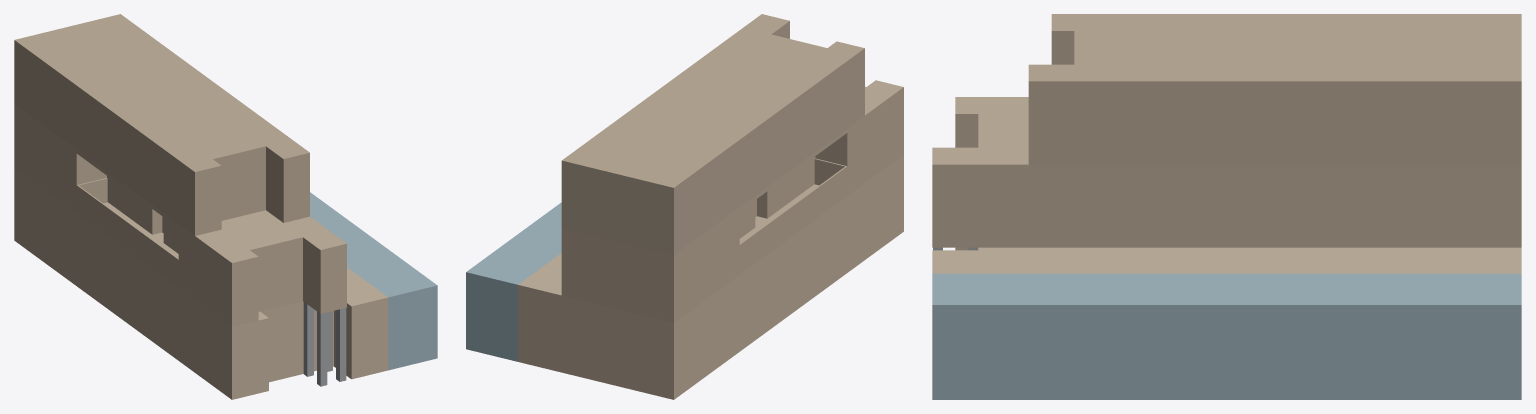
The model's file is massing.glb.
3 views of the same model, side by side, from view 1: azimuth 30°, elevation 25°; view 2: azimuth 150°, elevation 25°; view 3: azimuth 270°, elevation 25° (orthographic). The views are drawn at different scales.
Visible parts, largest first — view 1: main/floor3/0/0, main/floor1/0/0, main/floor2/1/0, wing/floor1/0/0, main/floor2/2/0, main/floor2/4/0, main/floor2/0/0, main/floor2/3/0, main/floor2/support/column2/0, main/floor2/support/column3/0, main/floor2/support/column0/0; view 2: main/floor3/0/0, main/floor1/0/0, main/floor2/1/0, wing/floor1/0/0, main/floor2/2/0, main/floor2/4/0, main/floor2/0/0, main/floor2/3/0; view 3: wing/floor1/0/0, main/floor3/0/0, main/floor2/1/0, main/floor2/2/0, main/floor1/0/0, main/floor2/4/0, main/floor2/3/0, main/floor2/0/0.
Boxes of the visible parts, x1,y1,x2,y2 form: main/floor3/0/0: (14, 14, 309, 235); main/floor1/0/0: (14, 168, 388, 399); main/floor2/1/0: (14, 140, 346, 322); wing/floor1/0/0: (310, 192, 437, 370); main/floor2/2/0: (14, 116, 346, 298); main/floor2/4/0: (14, 104, 346, 266); main/floor2/0/0: (14, 164, 346, 326); main/floor2/3/0: (14, 108, 346, 274); main/floor2/support/column2/0: (317, 311, 327, 386); main/floor2/support/column3/0: (336, 308, 346, 381); main/floor2/support/column0/0: (303, 302, 313, 376); main/floor3/0/0: (561, 14, 864, 255); main/floor1/0/0: (518, 155, 903, 399); main/floor2/1/0: (561, 125, 903, 318); wing/floor1/0/0: (466, 202, 561, 361); main/floor2/2/0: (561, 100, 903, 292); main/floor2/4/0: (561, 80, 903, 259); main/floor2/0/0: (561, 150, 903, 322); main/floor2/3/0: (561, 91, 903, 267); wing/floor1/0/0: (932, 273, 1521, 399); main/floor3/0/0: (1028, 14, 1521, 164); main/floor2/1/0: (932, 211, 1521, 242); main/floor2/2/0: (932, 129, 1521, 210); main/floor1/0/0: (932, 247, 1521, 273); main/floor2/4/0: (932, 97, 1521, 169); main/floor2/3/0: (932, 119, 1521, 179); main/floor2/0/0: (932, 242, 1521, 247).
Bounding box in the file's own units: 9.03 × 8.8 × 18.
